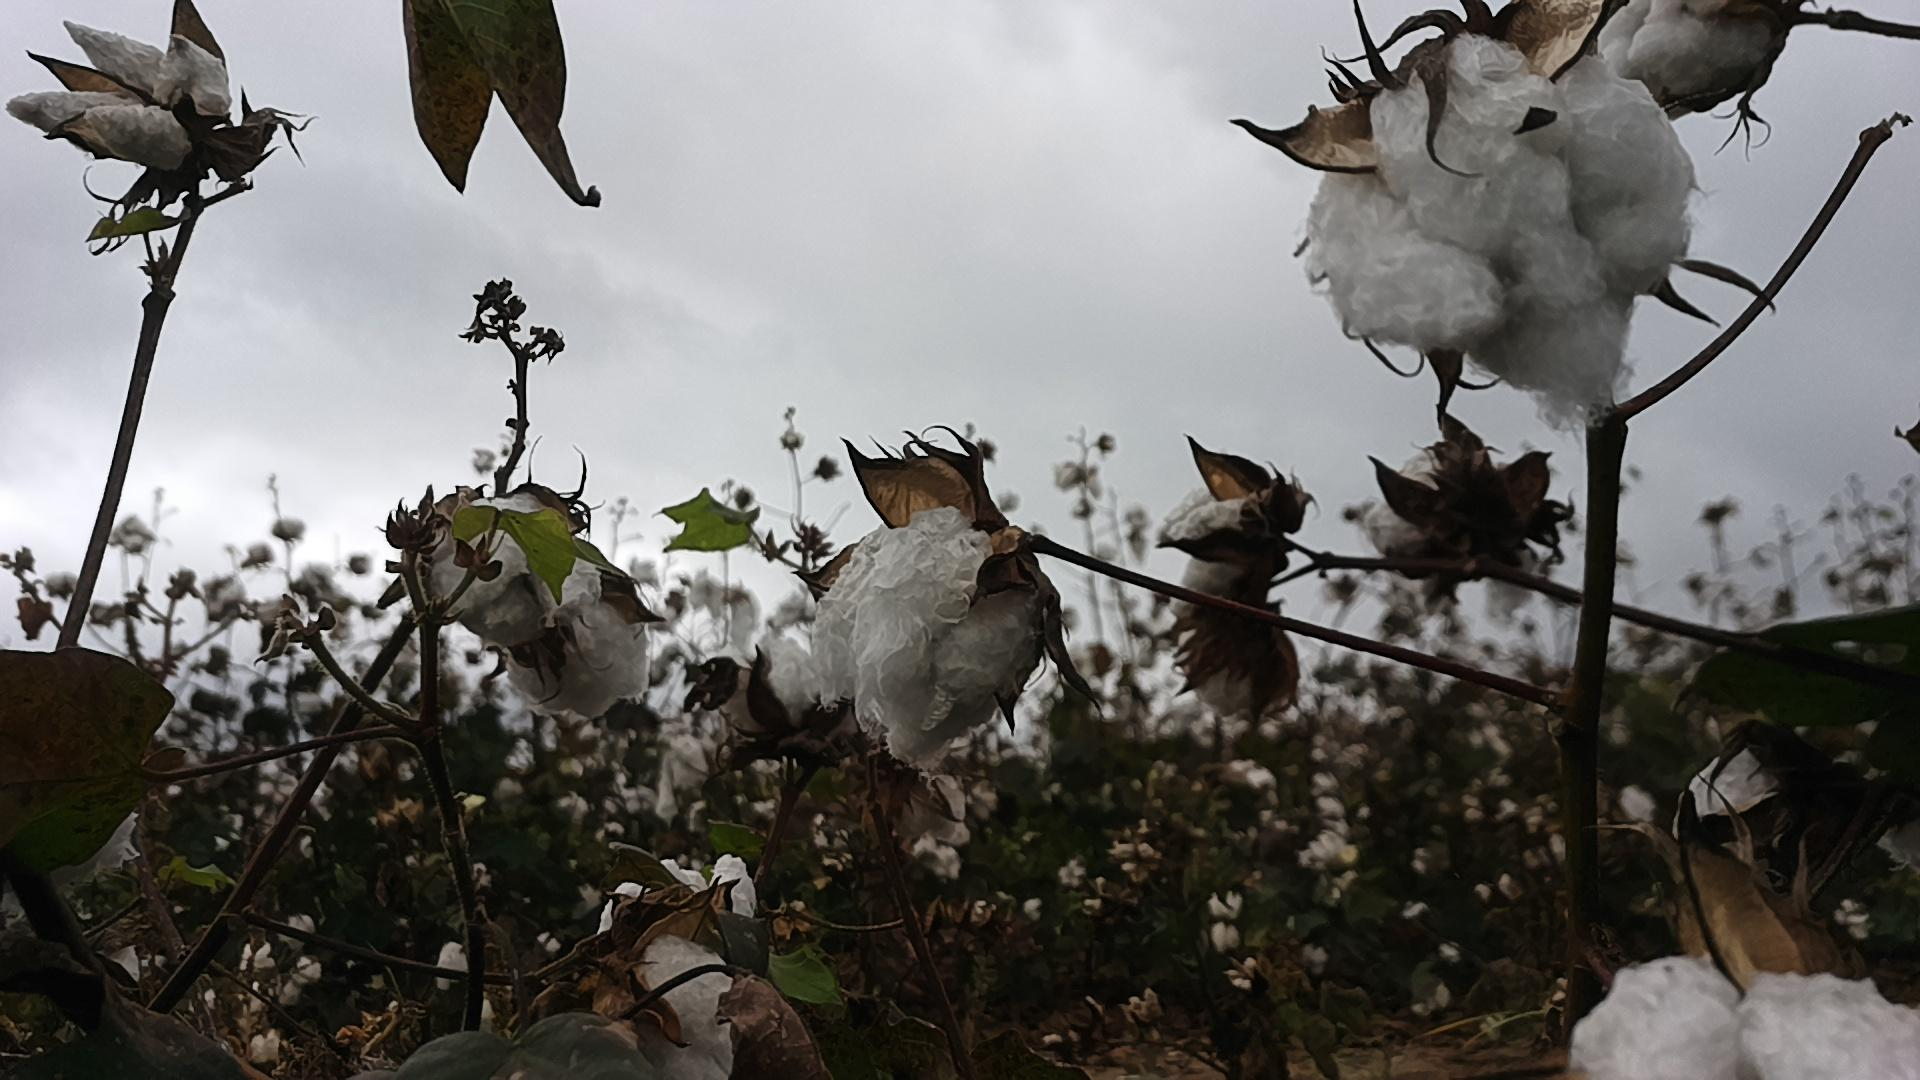cotton_ready: (1300, 32, 1709, 446), (806, 505, 1068, 767), (1571, 953, 1920, 1080), (592, 851, 761, 1080), (5, 17, 235, 175), (418, 493, 600, 633), (504, 568, 653, 725), (1588, 0, 1785, 116), (1362, 439, 1495, 580), (1155, 491, 1274, 611), (1178, 626, 1304, 725), (711, 638, 822, 745), (1685, 750, 1793, 816), (895, 795, 971, 887)
